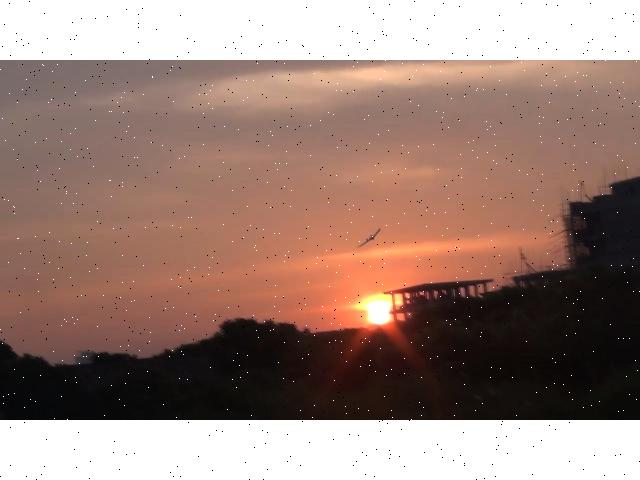Anti-Drone: (358, 229, 380, 248)
